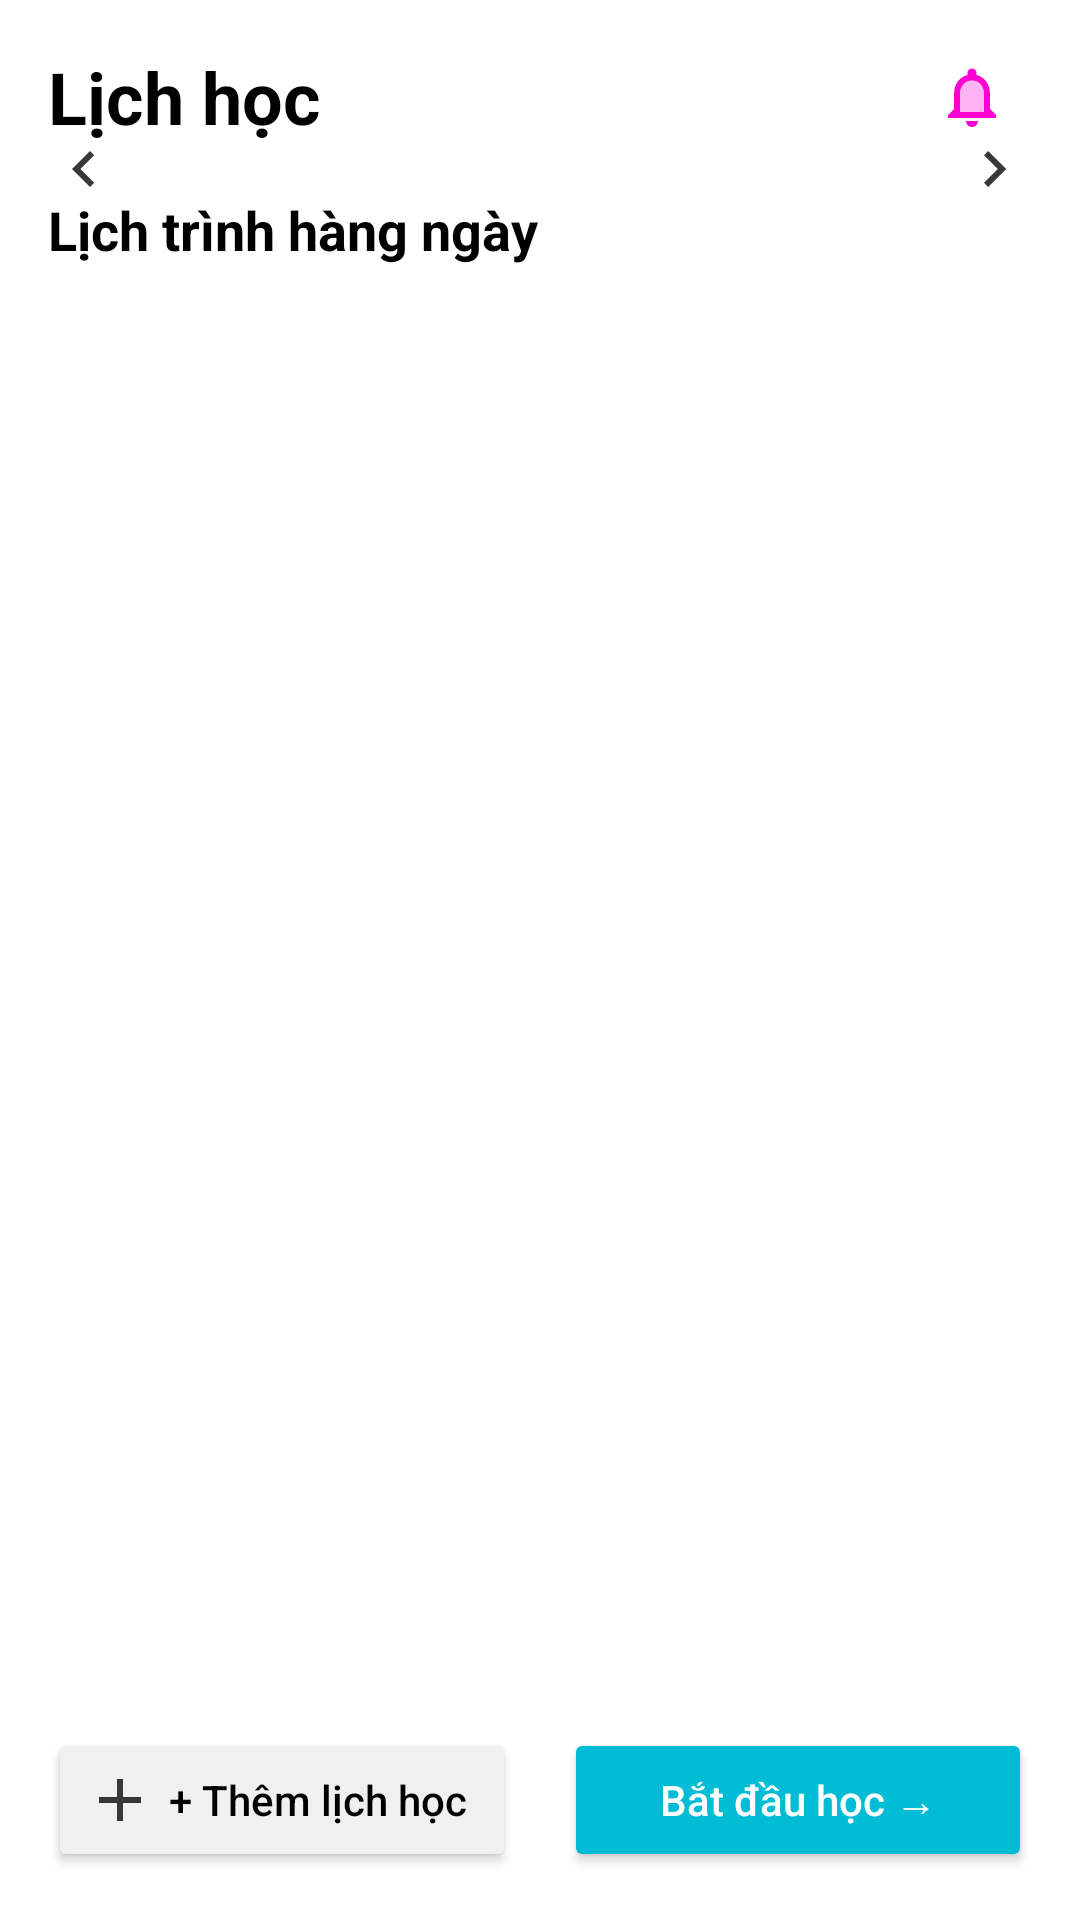

Named icons in this screenshot (1080px×1920px) and their bounding boxes, box(x1, y1, x2, y2):
notifications: box(948, 68, 996, 127)
